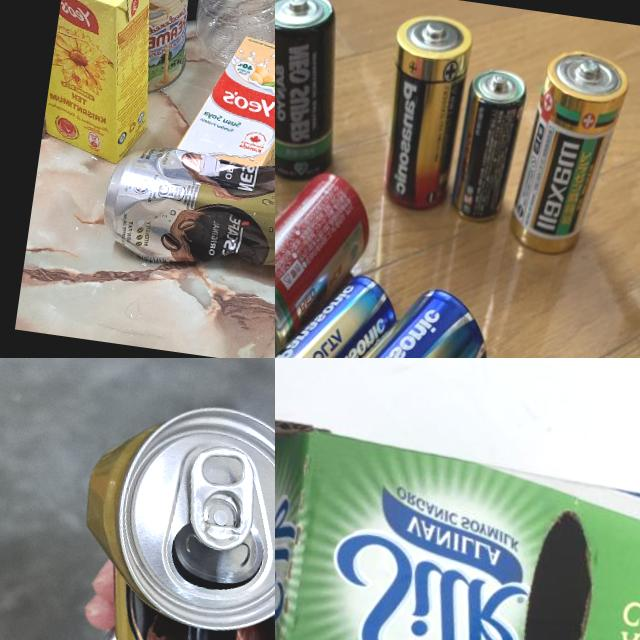aba de lata: (178, 444, 259, 554)
bateria: (506, 44, 630, 268), (371, 10, 477, 222), (275, 161, 379, 358), (281, 271, 499, 358), (275, 0, 359, 186), (445, 63, 533, 233), (275, 259, 401, 358)
caixinha: (39, 0, 167, 167), (176, 29, 275, 175)
garrafa plástica: (176, 0, 275, 75)
lata: (50, 389, 275, 640), (95, 140, 275, 288), (59, 0, 203, 99)
papelão: (275, 401, 640, 640)
